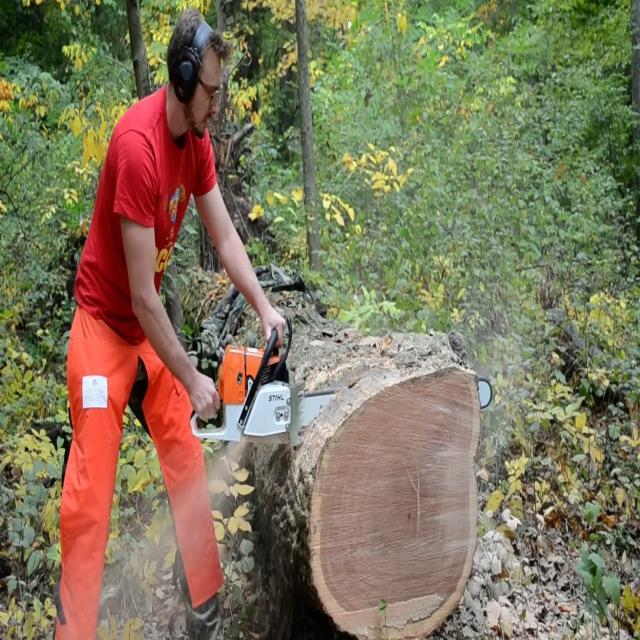Chainsaw: (173, 326, 500, 460)
